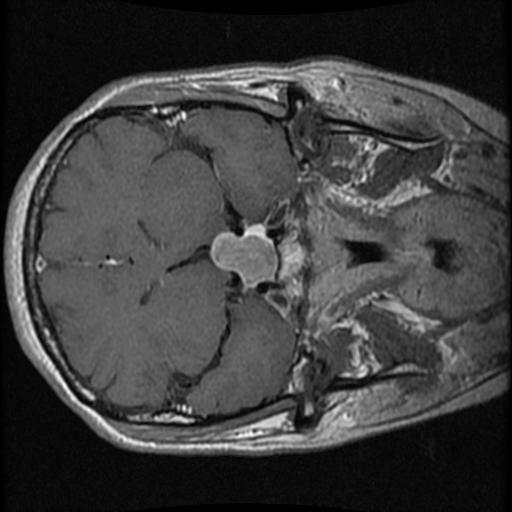pituitary tumour: (209, 224, 277, 290)
